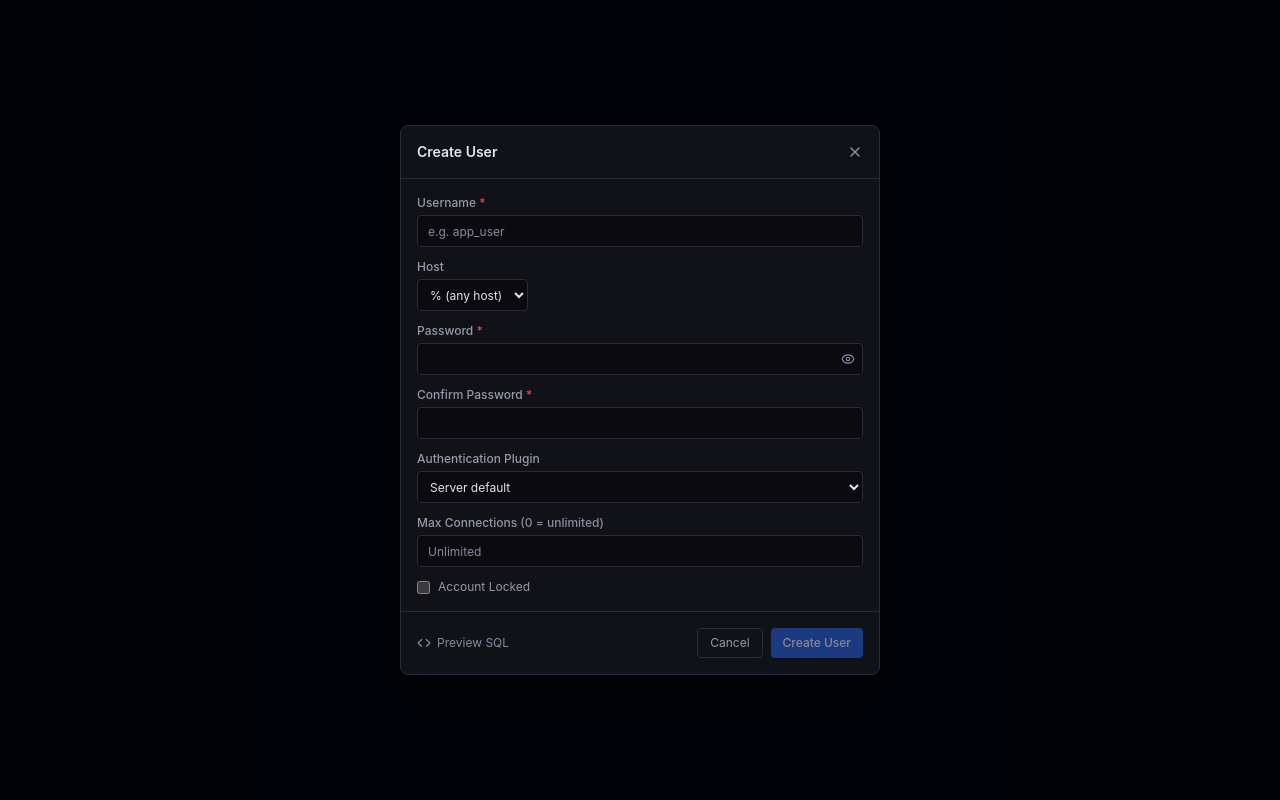
it: CreateUserDialog › shows password mismatch error
Type "pass1" into the 1st password field at (640, 359), box [417, 343, 863, 375]
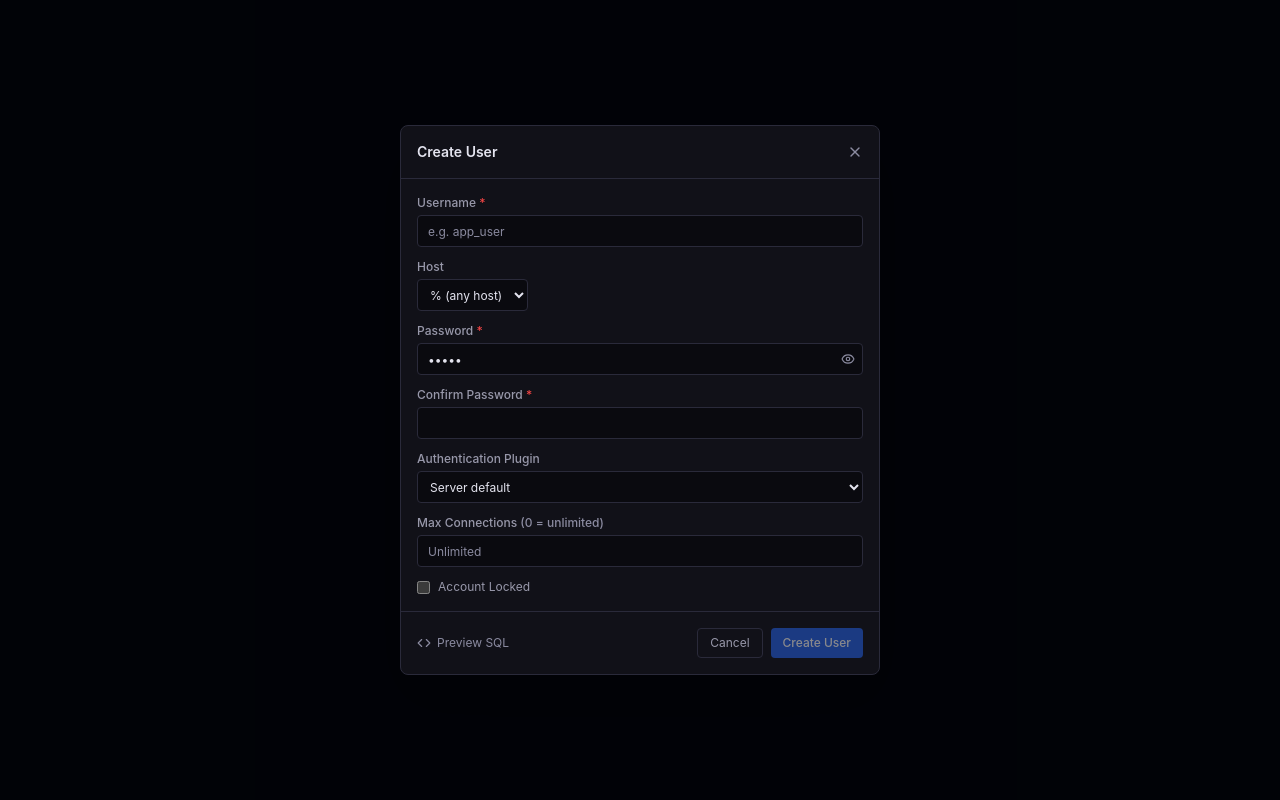
Type "pass2" into the password field below "Confirm Password" at (640, 423), box [417, 407, 863, 439]
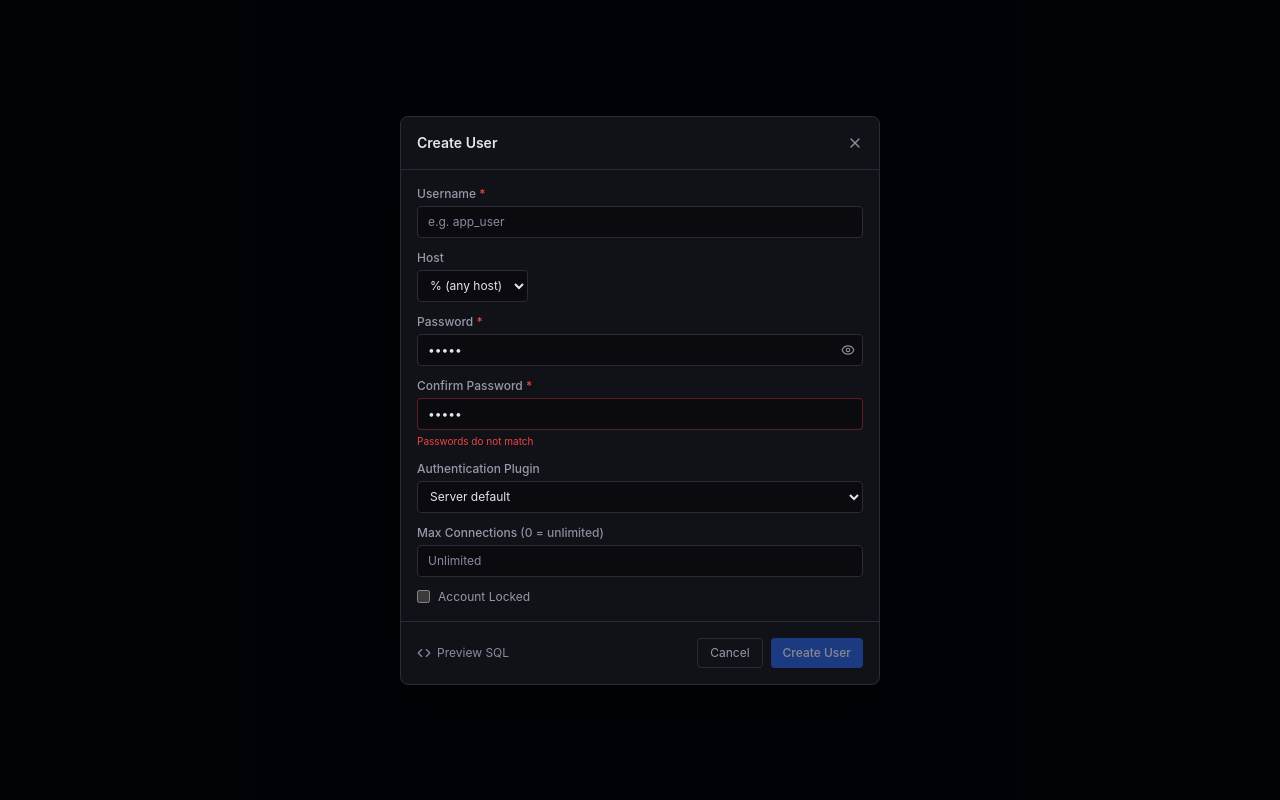
Result: the text "Passwords do not match" is shown at [417, 434, 534, 446]
